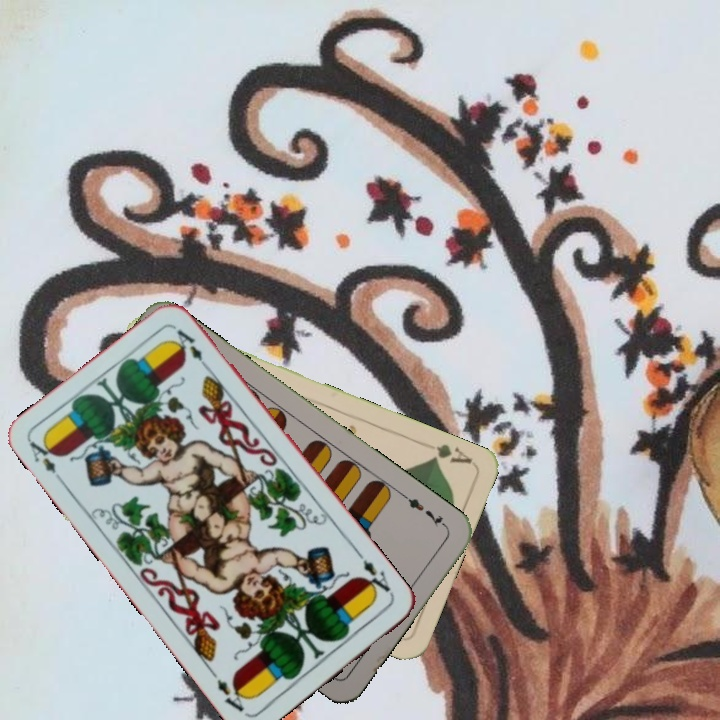E7: (399, 490, 450, 531)
EA: (25, 433, 67, 487), (356, 555, 396, 599)
GA: (426, 440, 475, 467)
